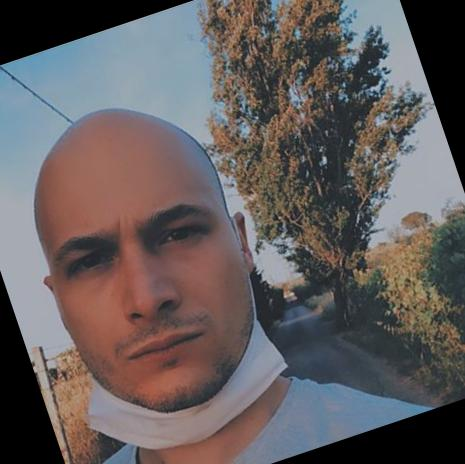mask_weared_incorrect: (37, 163, 295, 460)
